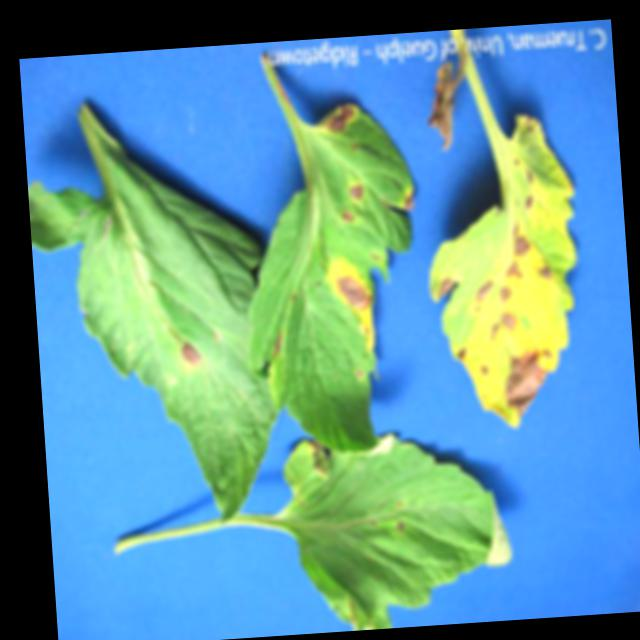Early_blight: (499, 345, 565, 425), (326, 253, 377, 351), (426, 61, 472, 155), (321, 104, 361, 137), (488, 311, 524, 345), (465, 279, 497, 314), (509, 222, 533, 259), (176, 338, 202, 372), (436, 275, 460, 300), (267, 331, 285, 362), (500, 260, 524, 282), (400, 187, 420, 212), (347, 181, 367, 204), (538, 263, 558, 283), (498, 283, 516, 304), (392, 516, 411, 534), (520, 195, 538, 213), (338, 207, 354, 226), (477, 363, 491, 379), (457, 345, 468, 362)
